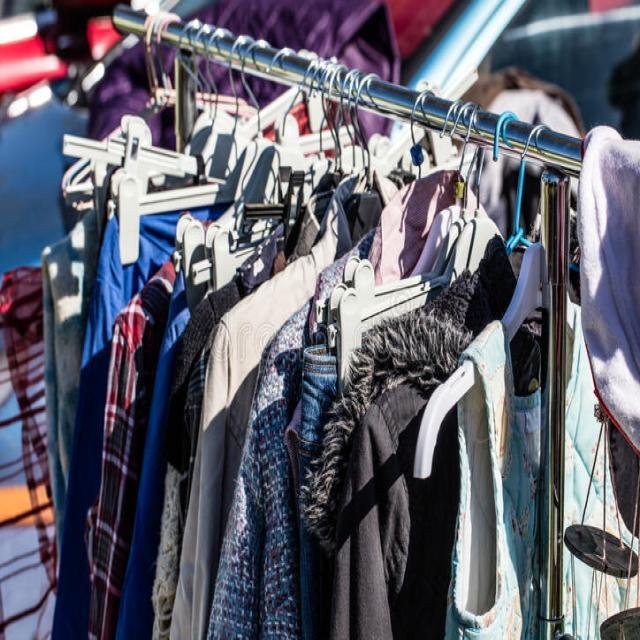clothes: (51, 241, 541, 640)
